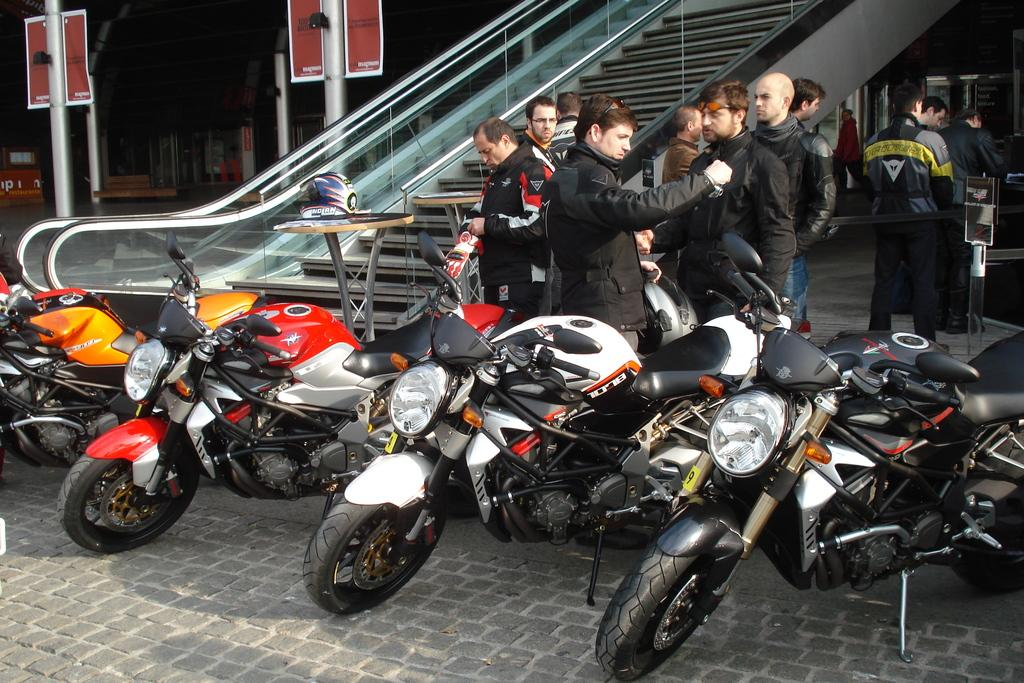helmet: (295, 171, 357, 220)
nohelmet: (573, 92, 639, 168), (697, 79, 751, 146), (471, 116, 520, 175), (754, 72, 796, 127), (786, 77, 825, 123), (524, 95, 559, 145), (671, 104, 707, 146), (891, 82, 924, 126), (916, 95, 949, 133), (556, 90, 583, 125), (841, 108, 854, 124)
